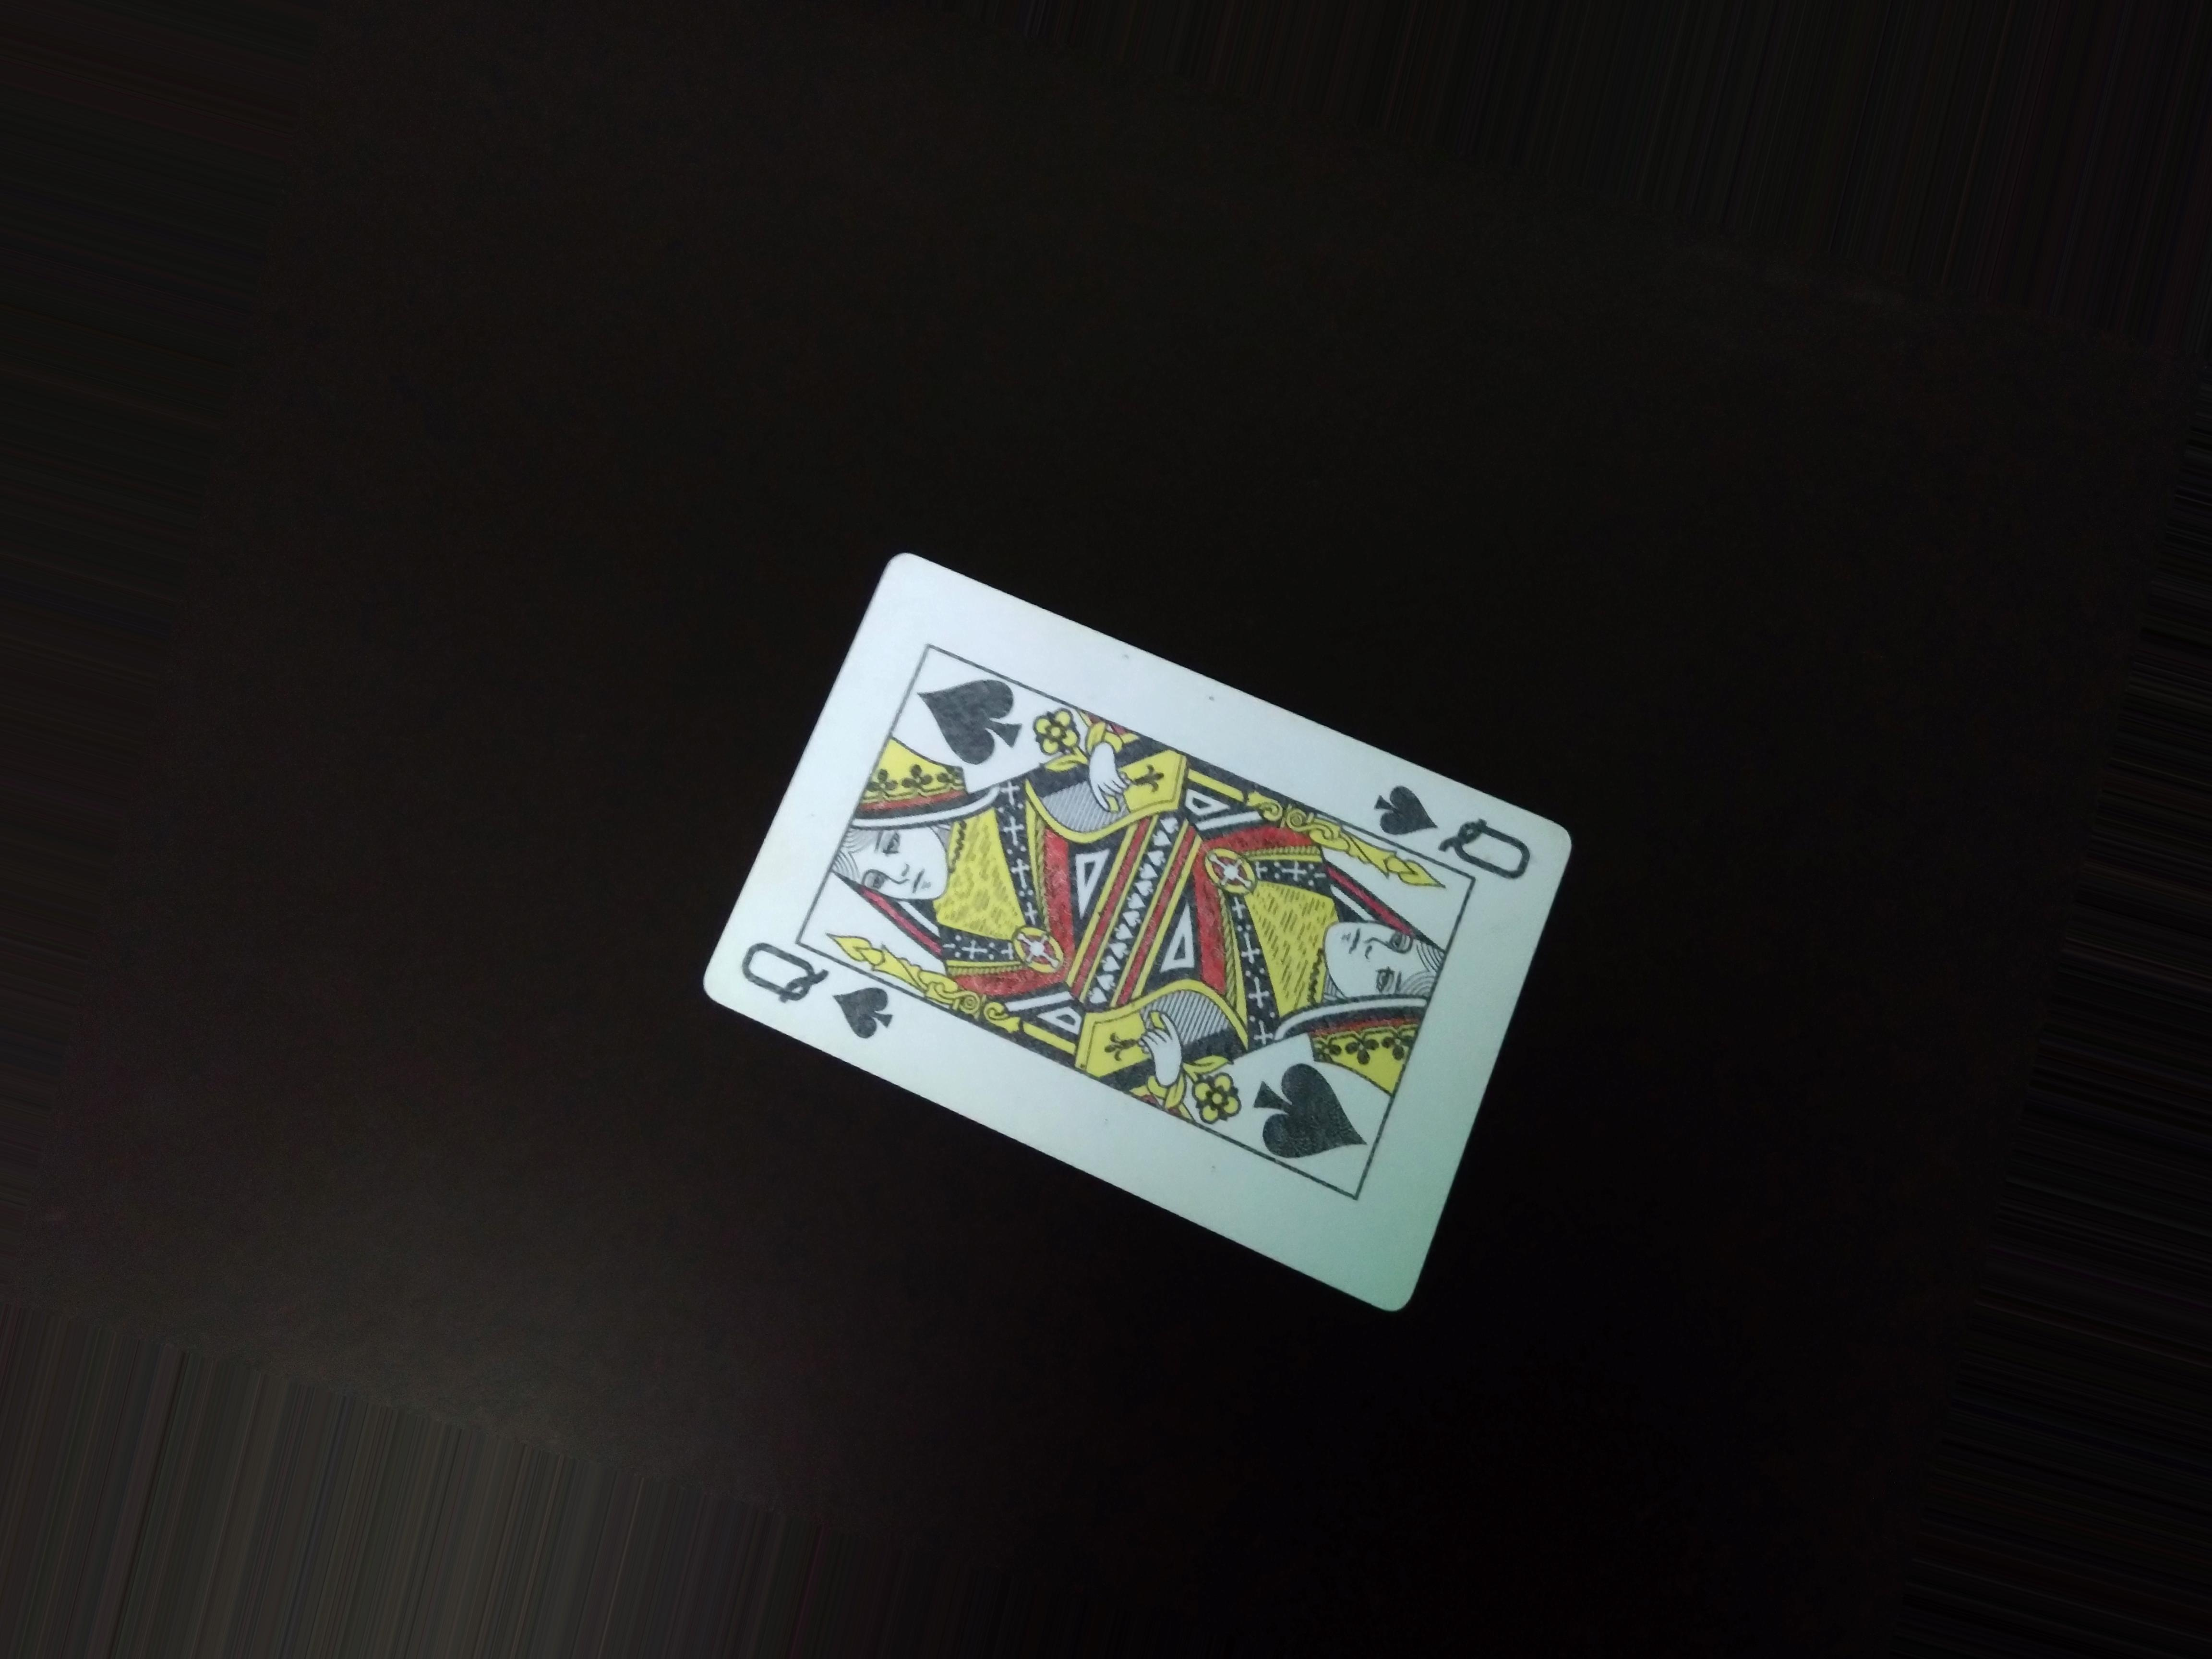QS: (1355, 774, 1540, 901)
